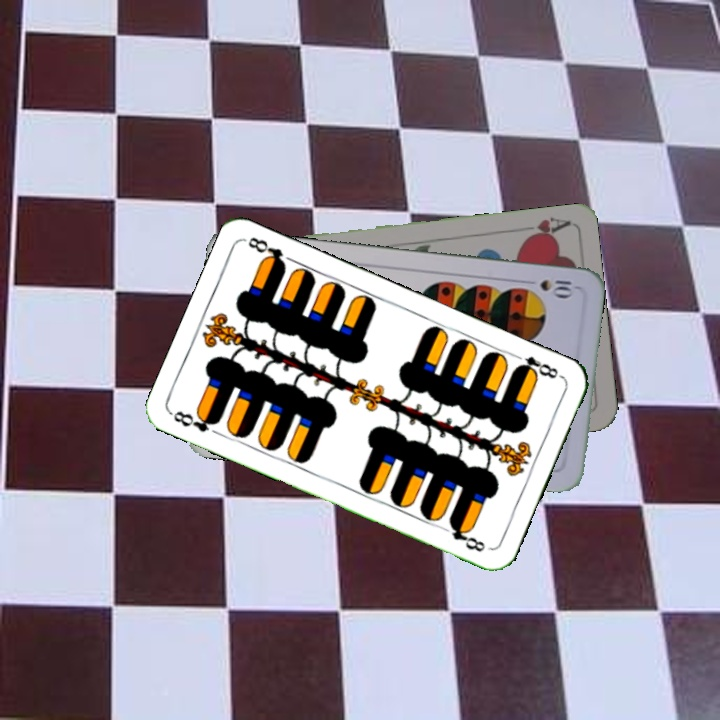E8: (509, 349, 565, 382), (168, 407, 223, 435)
HA: (512, 213, 571, 243)
S10: (520, 276, 576, 299)
